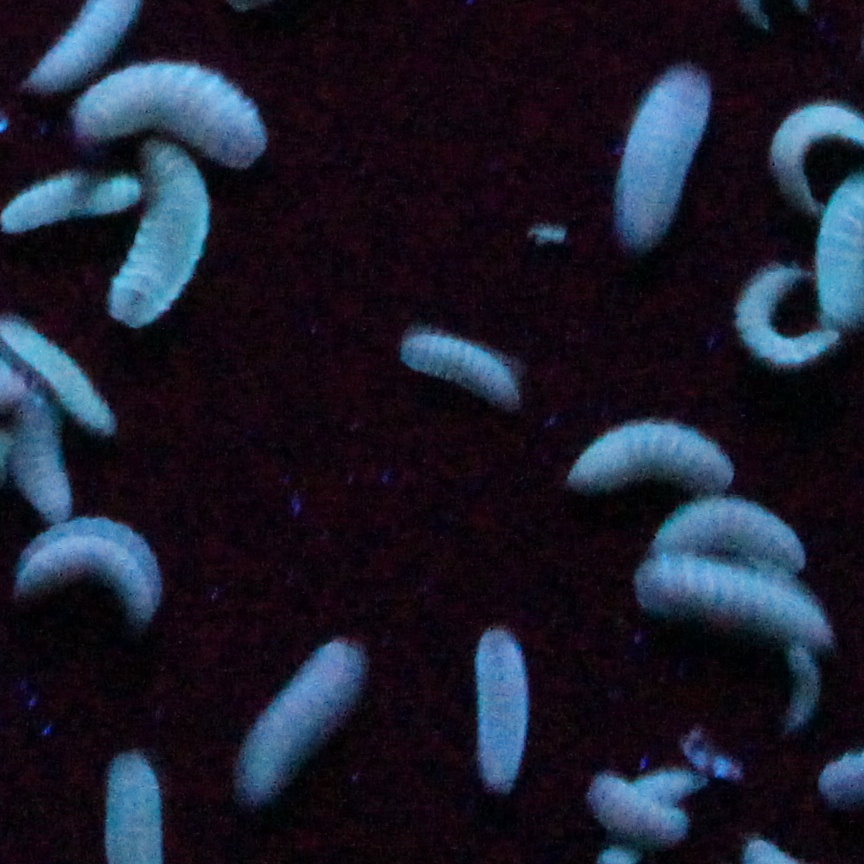larve: (76, 62, 270, 171), (241, 644, 361, 808), (616, 57, 714, 257), (110, 144, 210, 333), (632, 553, 825, 644), (21, 520, 161, 624), (574, 422, 741, 504), (736, 264, 838, 364), (476, 626, 532, 795), (587, 768, 701, 851), (401, 333, 523, 408), (14, 384, 72, 517), (790, 646, 823, 731), (634, 768, 706, 804)
